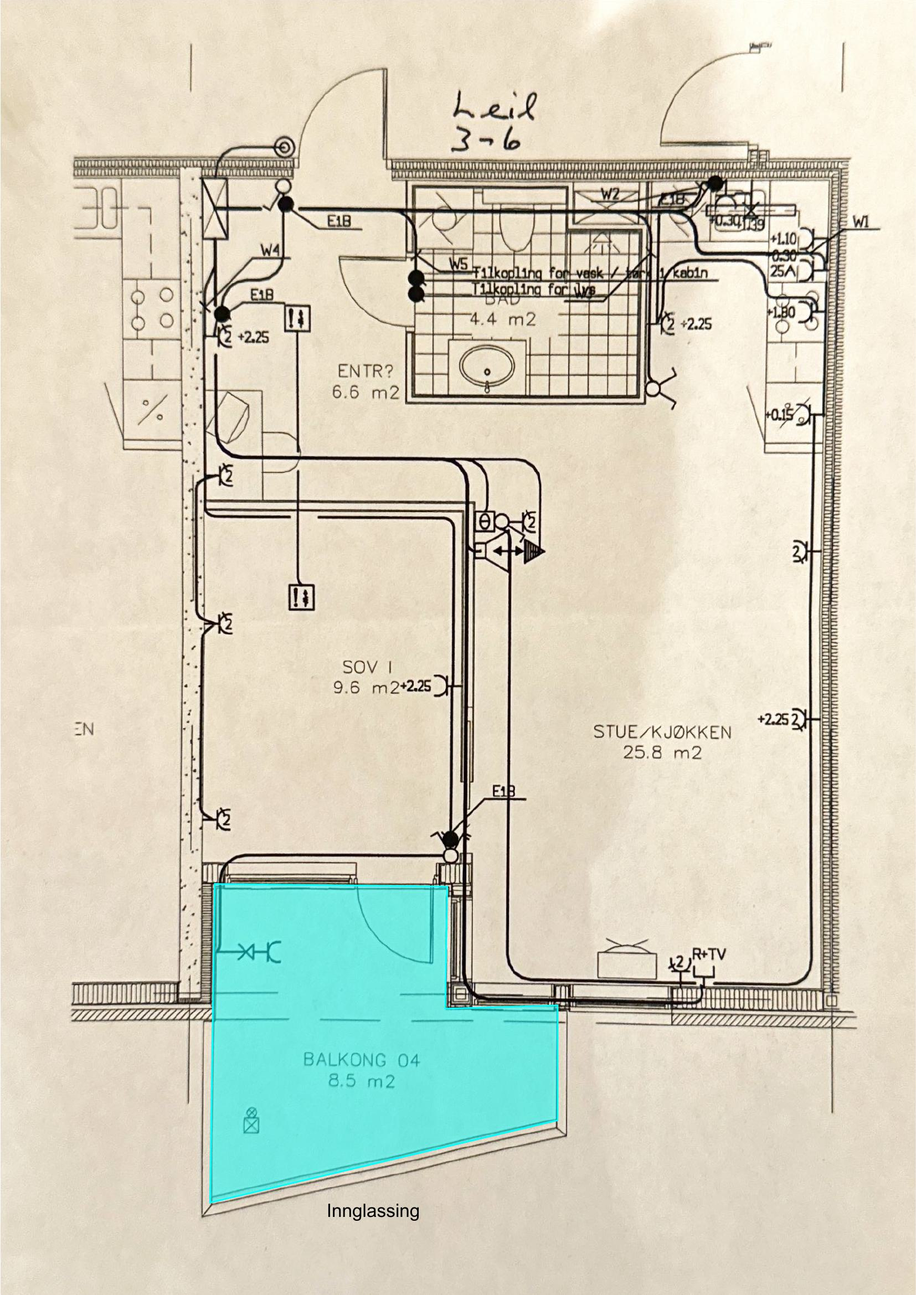plantegning: (76, 66, 853, 1220)
